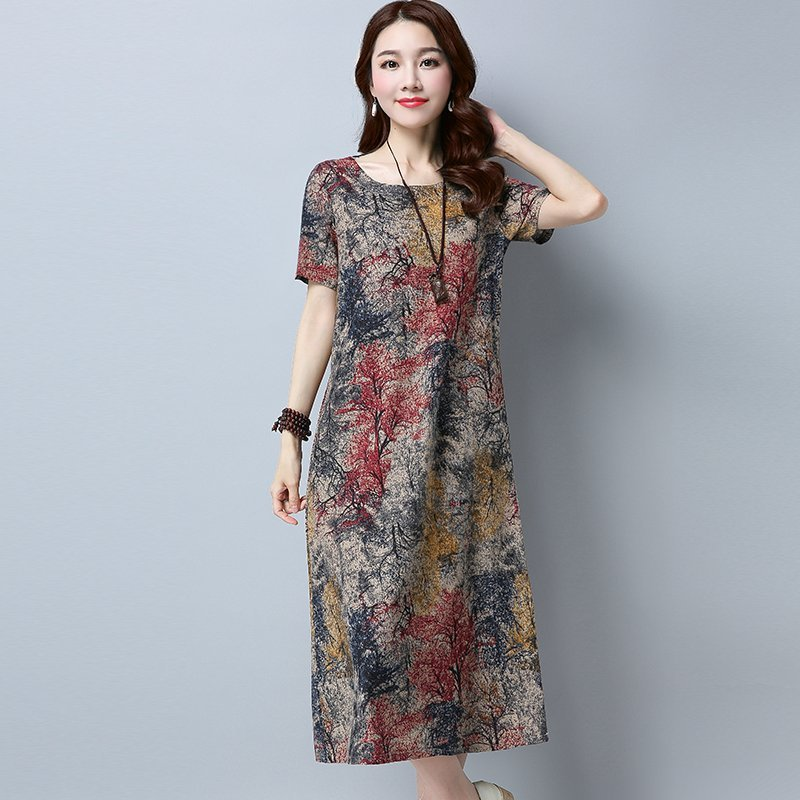C_dress: (275, 148, 556, 730)
